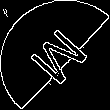M_SE: (19, 21, 91, 89)
